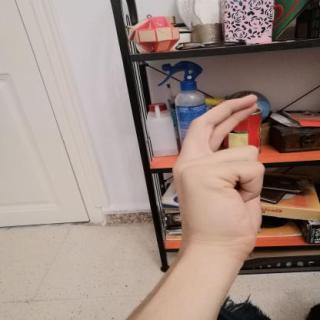ZAY: (164, 88, 268, 258)
